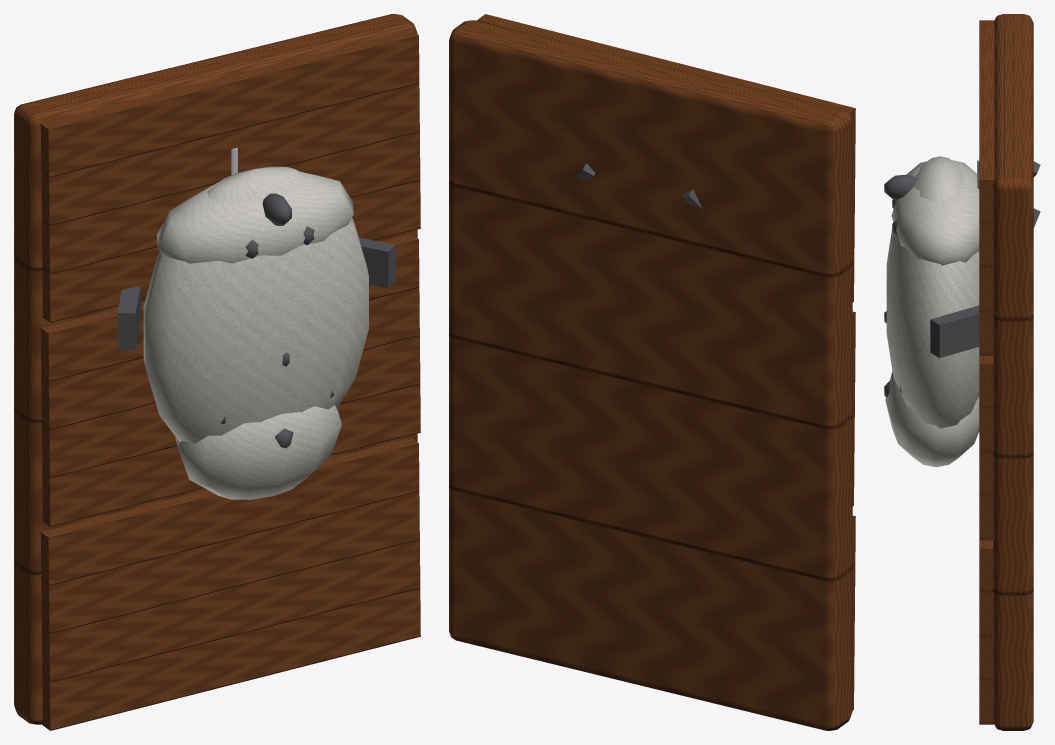
File: hockey-mask.glb
3 renders of one model, left to right at view 1: azimuth 30°, elevation 25°; view 2: azimuth 150°, elevation 25°; view 3: azimuth 270°, elevation 25°, orthographic. The views are drawn at different scales.
Parts seen in each view (by area): view 1: hockey-mask-on-nail; view 2: hockey-mask-on-nail; view 3: hockey-mask-on-nail.
Boxes of the visible parts, box(x1,y1,x2,y2) form: hockey-mask-on-nail: box(14, 14, 420, 730); hockey-mask-on-nail: box(449, 14, 855, 730); hockey-mask-on-nail: box(884, 14, 1040, 730).
Bounding box in the file's own units: 0.4 × 0.6 × 0.1537.
Materials: 4 (2 with a texture image).
